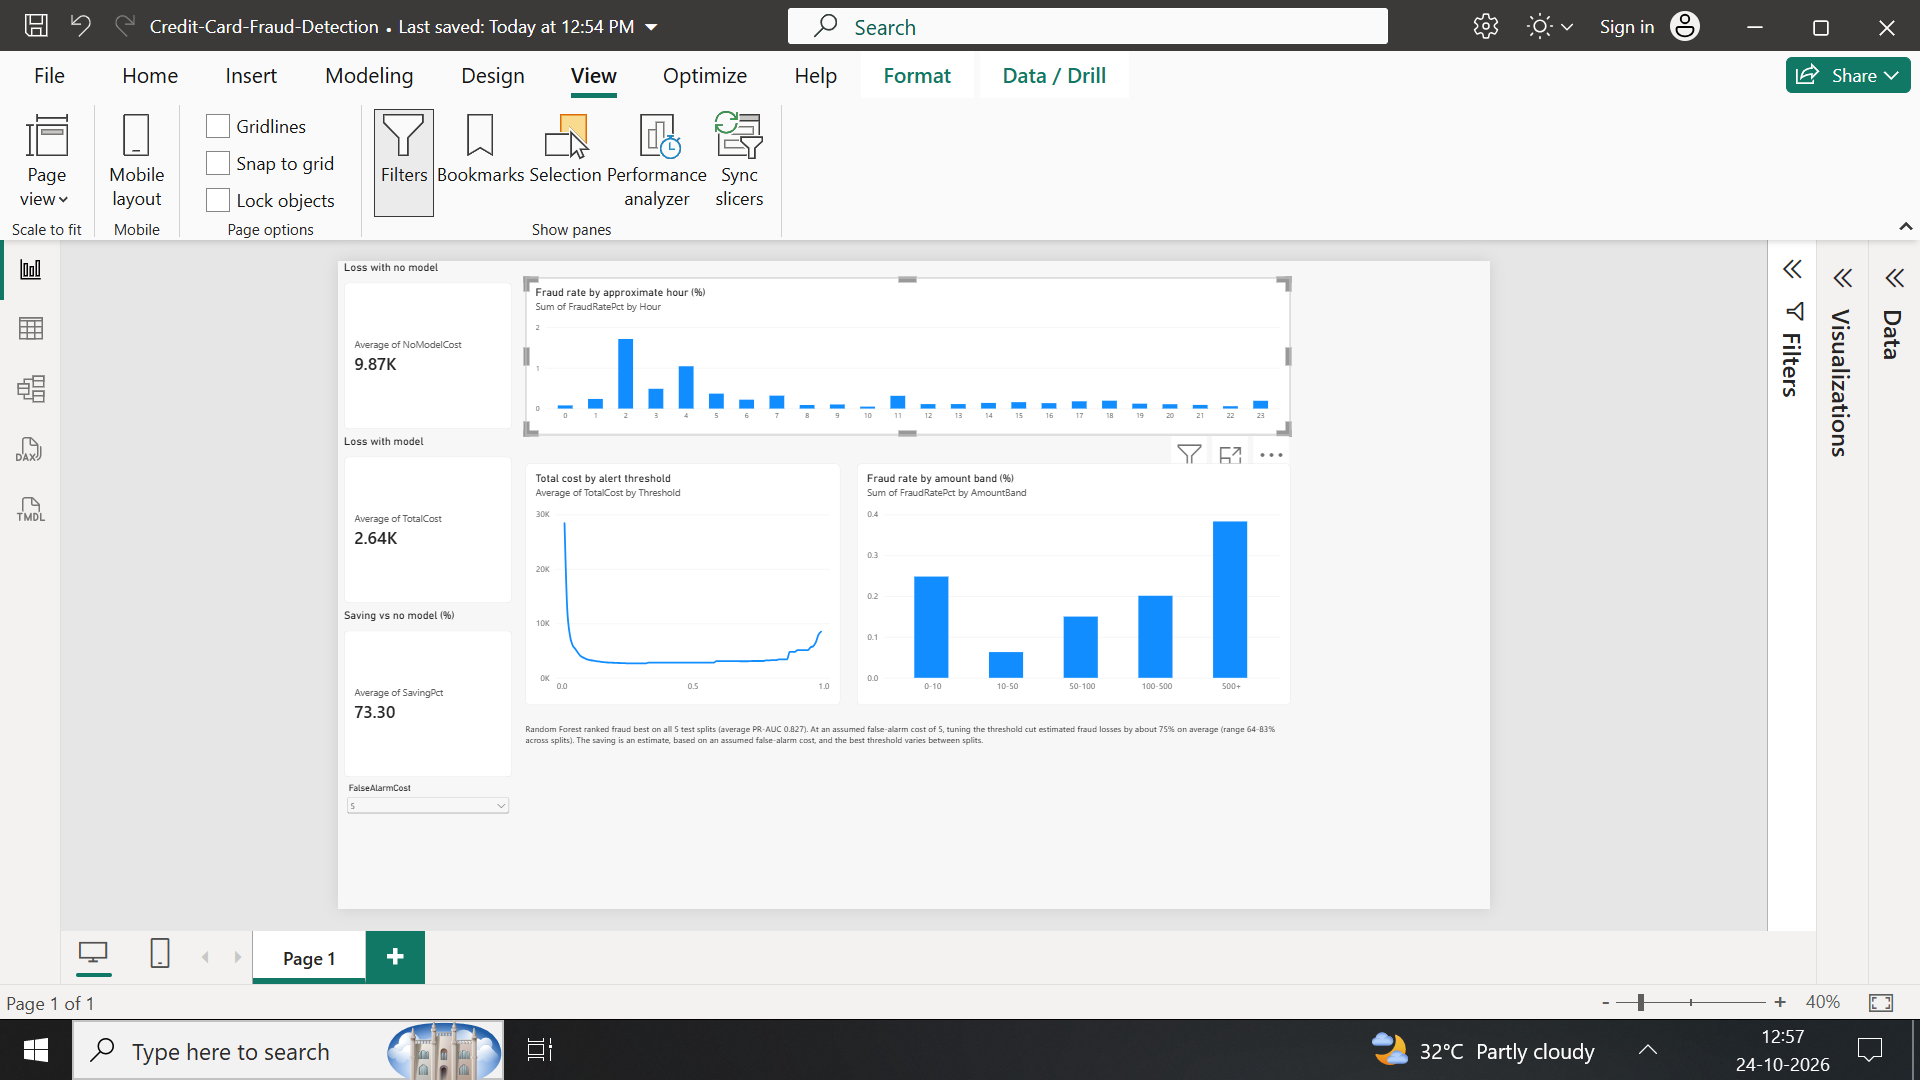

Layout of this report page (visuals, bound fields, positions):
{"tool":"powerbi","page":{"name":"Page 1","canvas":[1920,1080],"ordinal":0},"visuals":[{"type":"cardVisual","title":"Loss with no model","fields":{"Data":["Avg(threshold_analysis.NoModelCost)"]},"box":[10,0,280,280],"z":0},{"type":"cardVisual","title":"Loss with model","fields":{"Data":["Avg(threshold_analysis.TotalCost)"]},"box":[10,290,280,280],"z":1},{"type":"cardVisual","title":"Saving vs no model (%)","fields":{"Data":["Avg(threshold_analysis.SavingPct)"]},"box":[10,580,280,280],"z":2},{"type":"slicer","fields":{"Values":["threshold_analysis.FalseAlarmCost"]},"box":[10,870,280,210],"z":3},{"type":"lineChart","title":"Total cost by alert threshold","fields":{"Category":["threshold_analysis.Threshold"],"Y":["Avg(threshold_analysis.TotalCost)"]},"box":[311.8,337.3,524.4,402.5],"z":5},{"type":"clusteredColumnChart","title":"Fraud rate by approximate hour (%)","fields":{"Category":["fraud_by_hour.Hour"],"Y":["Sum(fraud_by_hour.FraudRatePct)"]},"box":[311.8,28.3,1275.6,260.8],"z":6},{"type":"clusteredColumnChart","title":"Fraud rate by amount band (%)","fields":{"Category":["fraud_by_amount_band.AmountBand"],"Y":["Sum(fraud_by_amount_band.FraudRatePct)"]},"box":[864.6,337.3,722.8,402.5],"z":7},{"type":"textbox","box":[311.8,771,1275.6,56.7],"z":8}]}

Visuals, with their boxes on the page's 1920x1080 design canvas (x1, y1, x2, y2). These are canvas units, not pixel positions in the 1920x1080 screenshot, which may show the page scaled, cropped or inside an application window:
"Loss with no model" cardVisual: [x1=10, y1=0, x2=290, y2=280]
"Loss with model" cardVisual: [x1=10, y1=290, x2=290, y2=570]
"Saving vs no model (%)" cardVisual: [x1=10, y1=580, x2=290, y2=860]
slicer - threshold_analysis.FalseAlarmCost: [x1=10, y1=870, x2=290, y2=1080]
"Total cost by alert threshold" lineChart: [x1=312, y1=337, x2=836, y2=740]
"Fraud rate by approximate hour (%)" clusteredColumnChart: [x1=312, y1=28, x2=1587, y2=289]
"Fraud rate by amount band (%)" clusteredColumnChart: [x1=865, y1=337, x2=1587, y2=740]
textbox: [x1=312, y1=771, x2=1587, y2=828]
